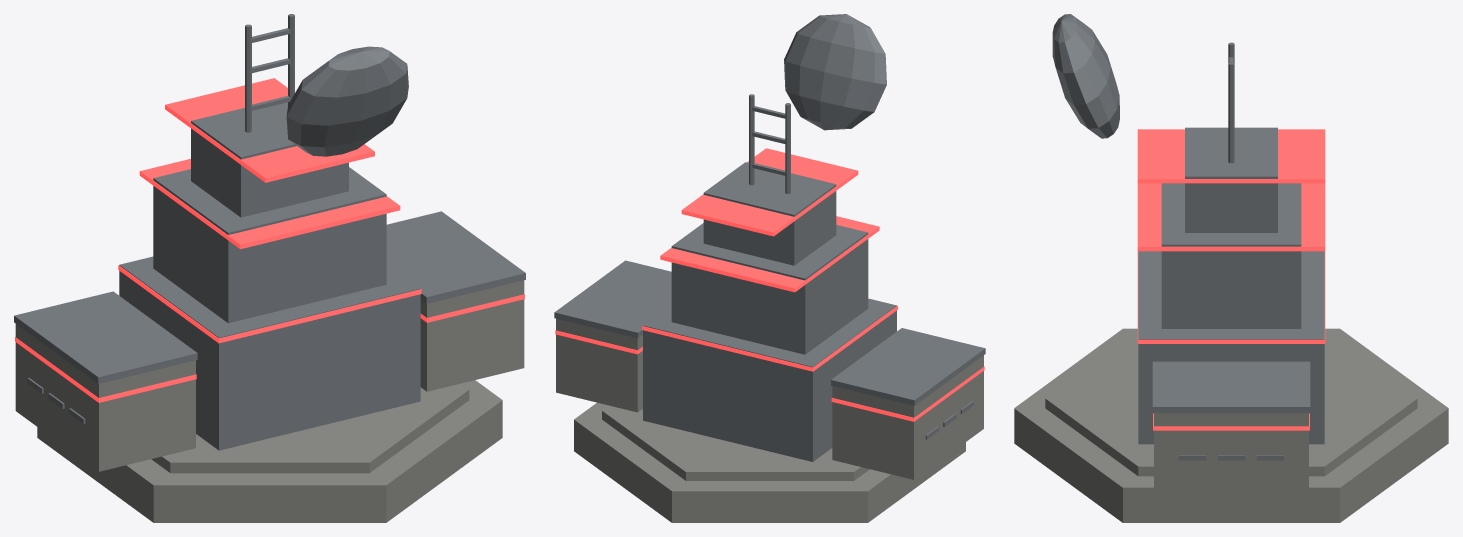
Rendered from crimson_fortress_hq.glb.
3 renders of one model, left to right at view 1: azimuth 30°, elevation 25°; view 2: azimuth 150°, elevation 25°; view 3: azimuth 270°, elevation 25°, orthographic. The views are drawn at different scales.
Visible parts, largest first — view 1: CrimsonFortressHQ; view 2: CrimsonFortressHQ; view 3: CrimsonFortressHQ.
Boxes of the visible parts, x1,y1,x2,y2 form: CrimsonFortressHQ: (14,14,525,522); CrimsonFortressHQ: (554,14,985,522); CrimsonFortressHQ: (1014,14,1448,522).
Bounding box in the file's own units: 5.96 × 6.01 × 5.6.
